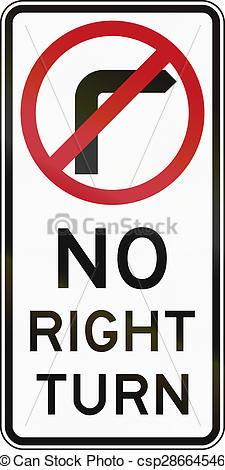no_right_turn: (20, 19, 203, 204)
